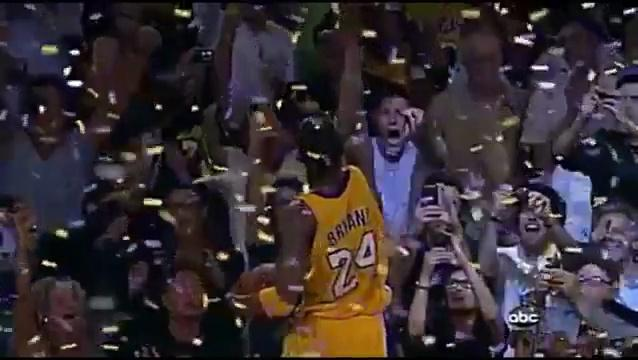Ball: (240, 260, 282, 307)
Person: (238, 100, 394, 360)
